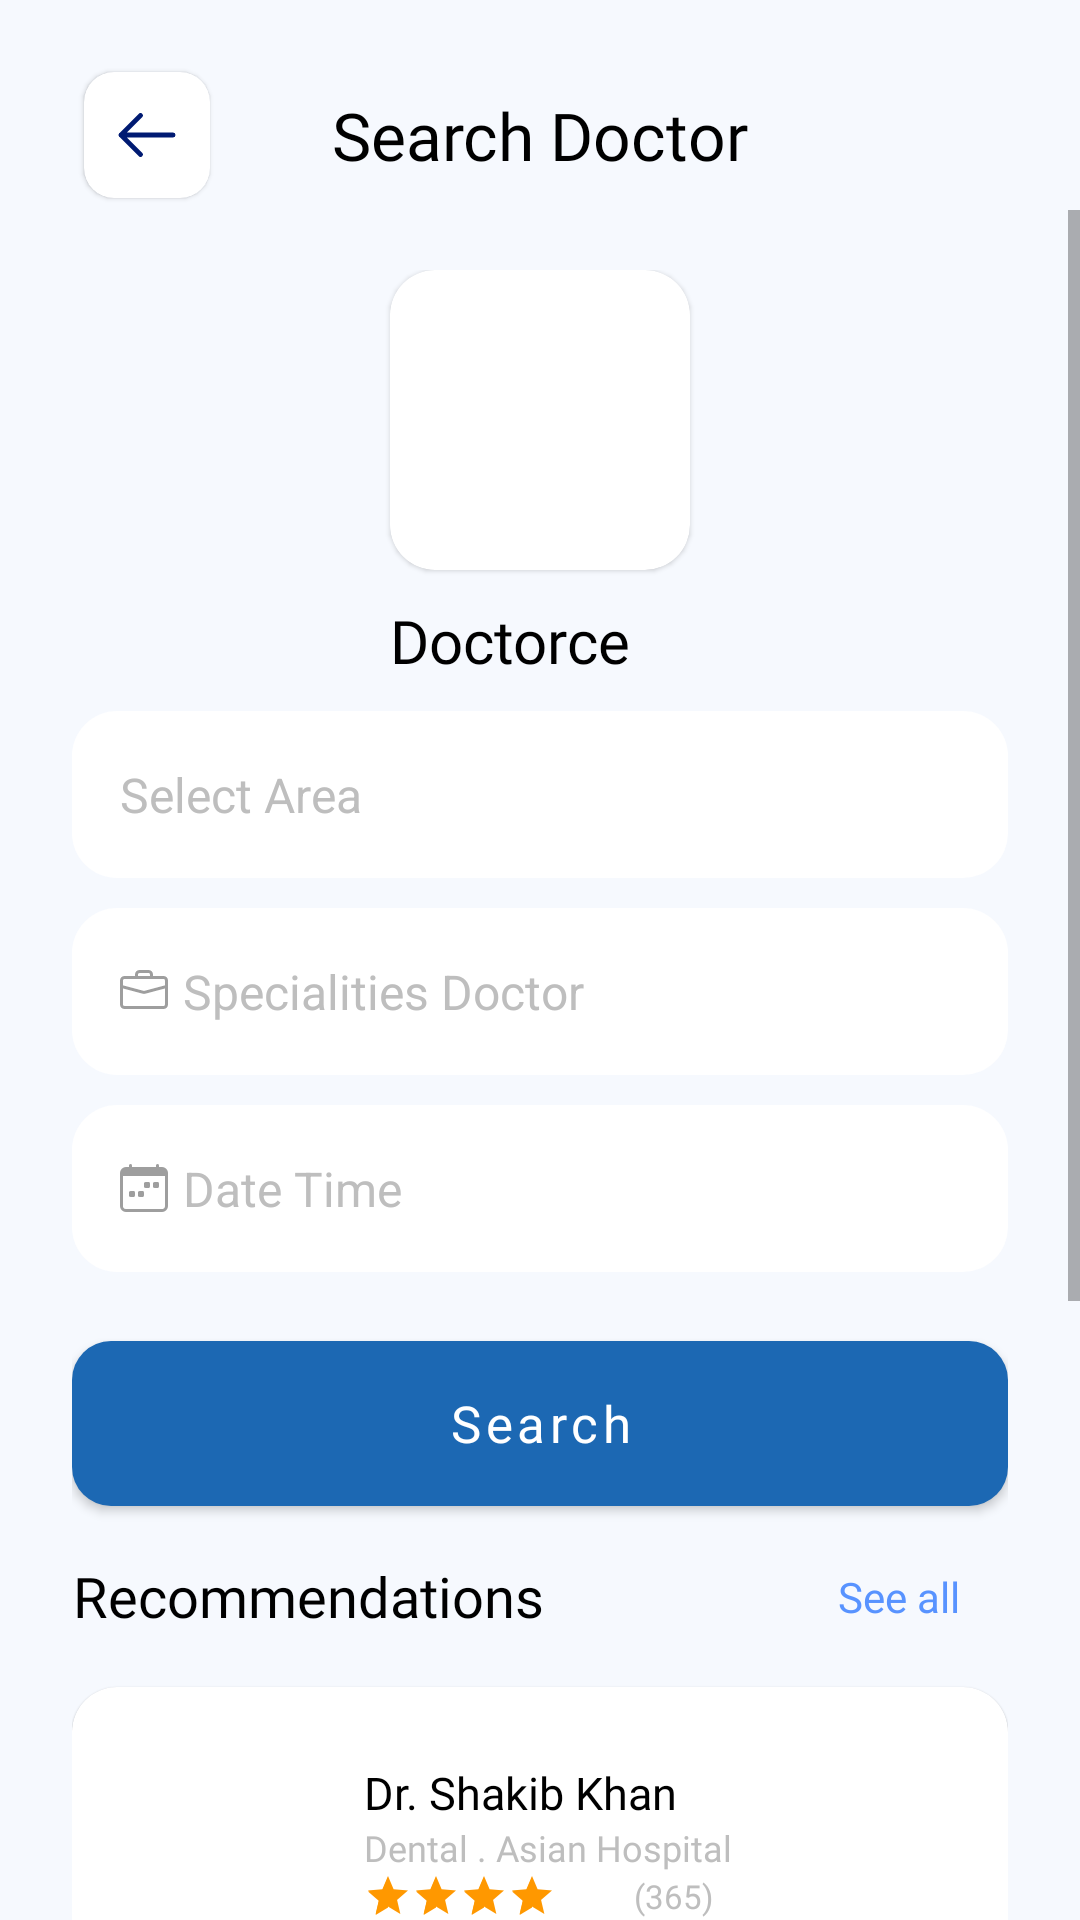

Named icons in this screenshot (1080w x 1920h) and their bounding boxes, {"x1": x1, "y1": y1, "x2": x2, "y2": y2}:
arrow left: {"x1": 84, "y1": 72, "x2": 210, "y2": 198}
